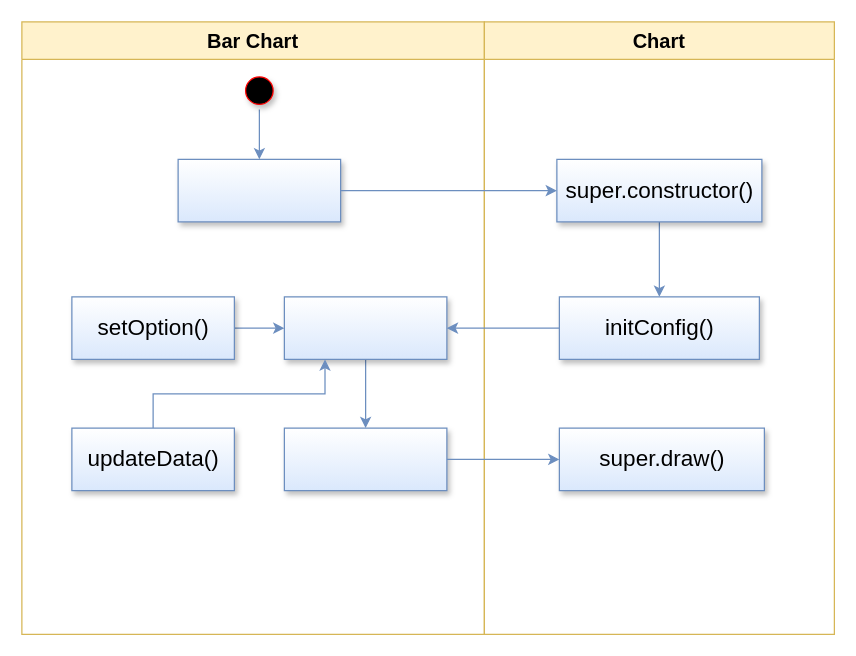
This 856x656 diagram has some shape labels left out. The shapes that lost their labels are listed below. From the top down, each one's centre as x and y in pixels, then its label:
At pixel 260 192: "constructor()".
At pixel 366 329: "updateConfig()".
At pixel 366 460: "draw()".
